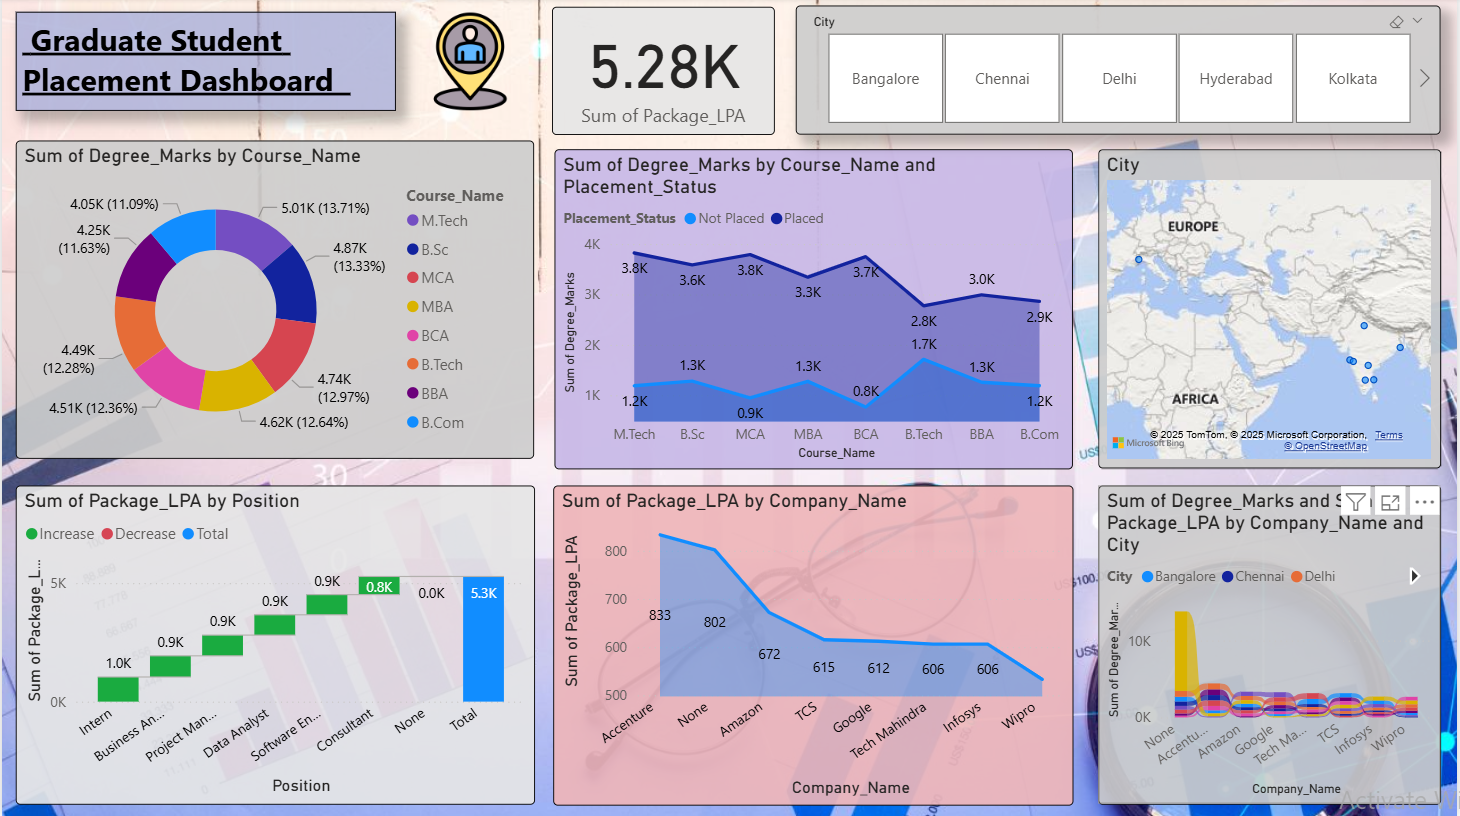

The dashboard page shown, as its layout file describes it:
{"tool":"powerbi","page":{"name":"Page 1","canvas":[1280,720],"ordinal":0},"visuals":[{"type":"waterfallChart","fields":{"Category":["Sheet1.Position"],"Y":["Sum(Sheet1.Package_LPA)"]},"box":[12,429.1,456.6,280.4],"z":0},{"type":"stackedAreaChart","fields":{"Category":["Sheet1.Company_Name"],"Y":["Sum(Sheet1.Package_LPA)"]},"box":[484.8,428.5,457.4,281.3],"z":1000},{"type":"ribbonChart","fields":{"Category":["Sheet1.Company_Name"],"Series":["Sheet1.City"],"Y":["Sum(Sheet1.Degree_Marks)"]},"box":[963.8,428.5,301.3,280.8],"z":2000},{"type":"areaChart","fields":{"Category":["Sheet1.Course_Name"],"Series":["Sheet1.Placement_Status"],"Y":["Sum(Sheet1.Degree_Marks)"]},"box":[486.2,132.7,455.9,281.3],"z":3000},{"type":"donutChart","fields":{"Category":["Sheet1.Course_Name"],"Y":["Sum(Sheet1.Degree_Marks)"]},"box":[12.1,124.8,455.8,280],"z":4000},{"type":"map","fields":{"Category":["Sheet1.City"]},"box":[963.8,133.1,301.3,280.8],"z":4001},{"type":"textbox","box":[12.1,12.1,334.3,86.9],"z":4002},{"type":"image","box":[329.9,6.6,163.8,99],"z":4003},{"type":"card","fields":{"Values":["Sum(Sheet1.Package_LPA)"]},"box":[484.1,7.3,196,112.6],"z":4004},{"type":"slicer","fields":{"Values":["Sheet1.City"]},"box":[698.2,6.6,567.4,113.3],"z":4005}]}

Visuals, with their boxes in screenshot pixels (x1, y1, x2, y2), scaled from the page's 1280x720 canvas onto the 1460x816 screenshot:
waterfallChart - Sheet1.Position x Sum(Sheet1.Package_LPA): <box>14,486,534,804</box>
stackedAreaChart - Sheet1.Company_Name x Sum(Sheet1.Package_LPA): <box>553,486,1075,804</box>
ribbonChart - Sheet1.Company_Name x Sheet1.City: <box>1099,486,1443,804</box>
areaChart - Sheet1.Course_Name x Sheet1.Placement_Status: <box>555,150,1075,469</box>
donutChart - Sheet1.Course_Name x Sum(Sheet1.Degree_Marks): <box>14,141,534,459</box>
map - Sheet1.City: <box>1099,151,1443,469</box>
textbox: <box>14,14,395,112</box>
image: <box>376,7,563,120</box>
card - Sum(Sheet1.Package_LPA): <box>552,8,776,136</box>
slicer - Sheet1.City: <box>796,7,1444,136</box>
